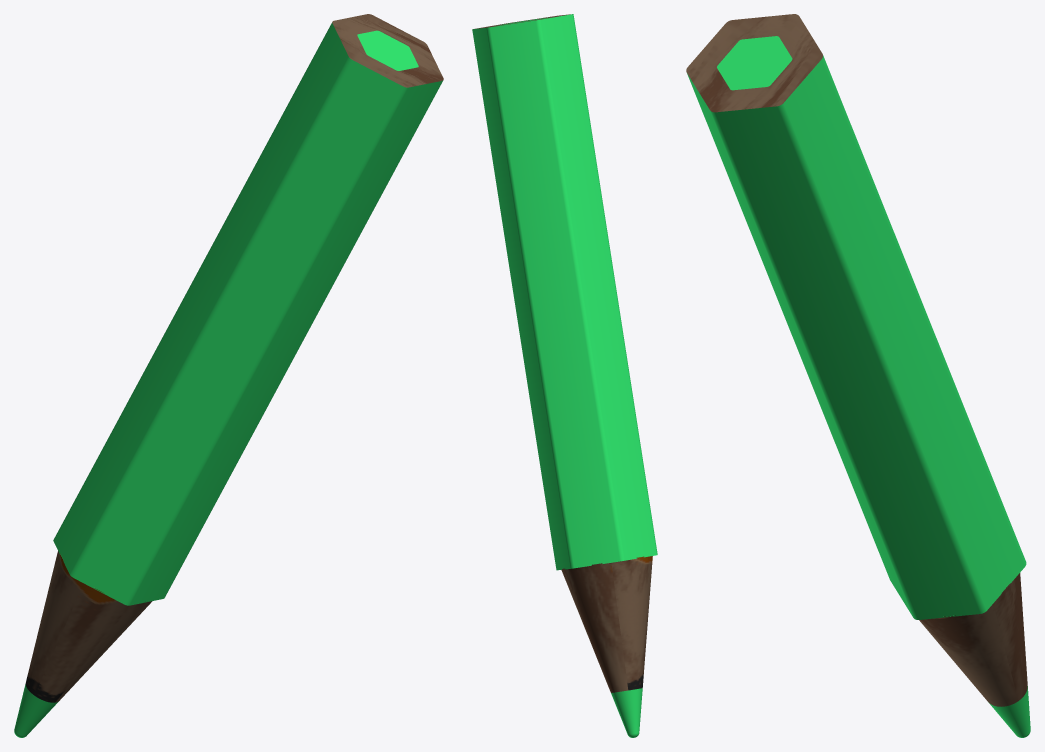
The picture shows the model from 3 angles, left to right: view 1: azimuth 30°, elevation 25°; view 2: azimuth 150°, elevation 25°; view 3: azimuth 270°, elevation 25°; orthographic projection. The views are drawn at different scales.
Parts seen in each view (by area): view 1: Da Pencil.002; view 2: Da Pencil.002; view 3: Da Pencil.002.
Boxes of the visible parts, x1,y1,x2,y2 form: Da Pencil.002: (14,14,443,737); Da Pencil.002: (472,14,657,737); Da Pencil.002: (686,14,1030,737).
Size of the model in its own units: 0.4952 by 1.14 by 0.4236.
2 materials, 1 textured.
